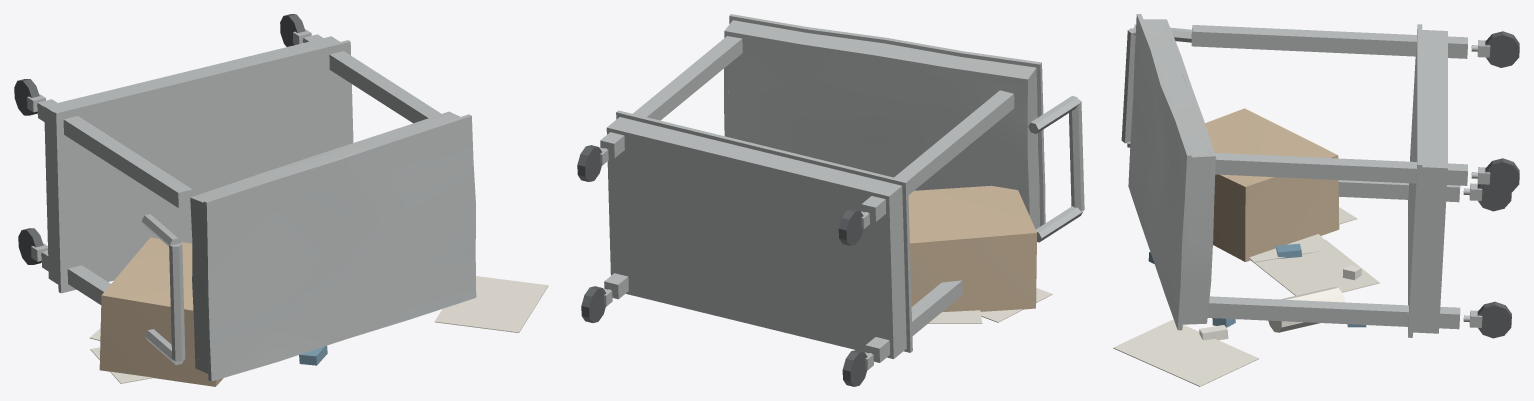
File: service_cart_broken.fbx
3 renders of one model, left to right at view 1: azimuth 30°, elevation 25°; view 2: azimuth 150°, elevation 25°; view 3: azimuth 270°, elevation 25°, orthographic. The views are drawn at different scales.
Visible parts, largest first — view 1: service_cart_broken, service_cart_broken_debris; view 2: service_cart_broken, service_cart_broken_debris; view 3: service_cart_broken, service_cart_broken_debris.
Part boxes in pixels (<box>): service_cart_broken: <box>14,14,476,381</box>; service_cart_broken_debris: <box>89,237,548,386</box>; service_cart_broken: <box>577,14,1084,386</box>; service_cart_broken_debris: <box>908,185,1052,323</box>; service_cart_broken: <box>1121,14,1519,338</box>; service_cart_broken_debris: <box>1113,108,1379,386</box>.
Bounding box in the file's own units: 118 × 52.75 × 100.
